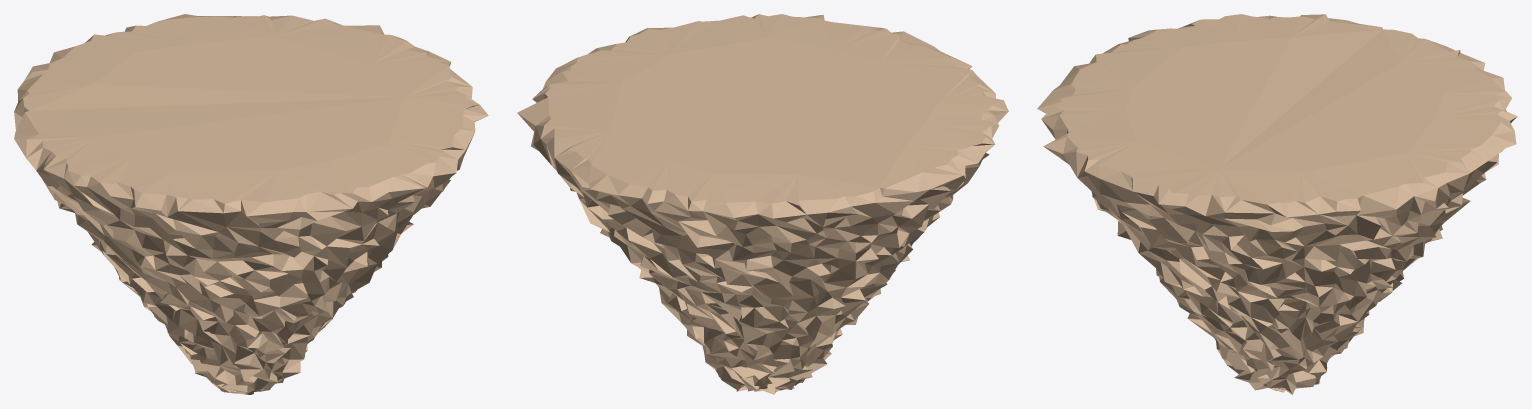
Rendered from island_cone.fbx.
3 views of the same model, side by side, from view 1: azimuth 30°, elevation 25°; view 2: azimuth 150°, elevation 25°; view 3: azimuth 270°, elevation 25° (orthographic).
Visible parts, largest first — view 1: Cone002; view 2: Cone002; view 3: Cone002.
Part boxes in pixels (x1,y1,x2,y2): Cone002: [14, 14, 488, 394]; Cone002: [517, 14, 1008, 394]; Cone002: [1037, 14, 1517, 394].
Bounding box in the file's own units: 79.29 × 50 × 79.61.
